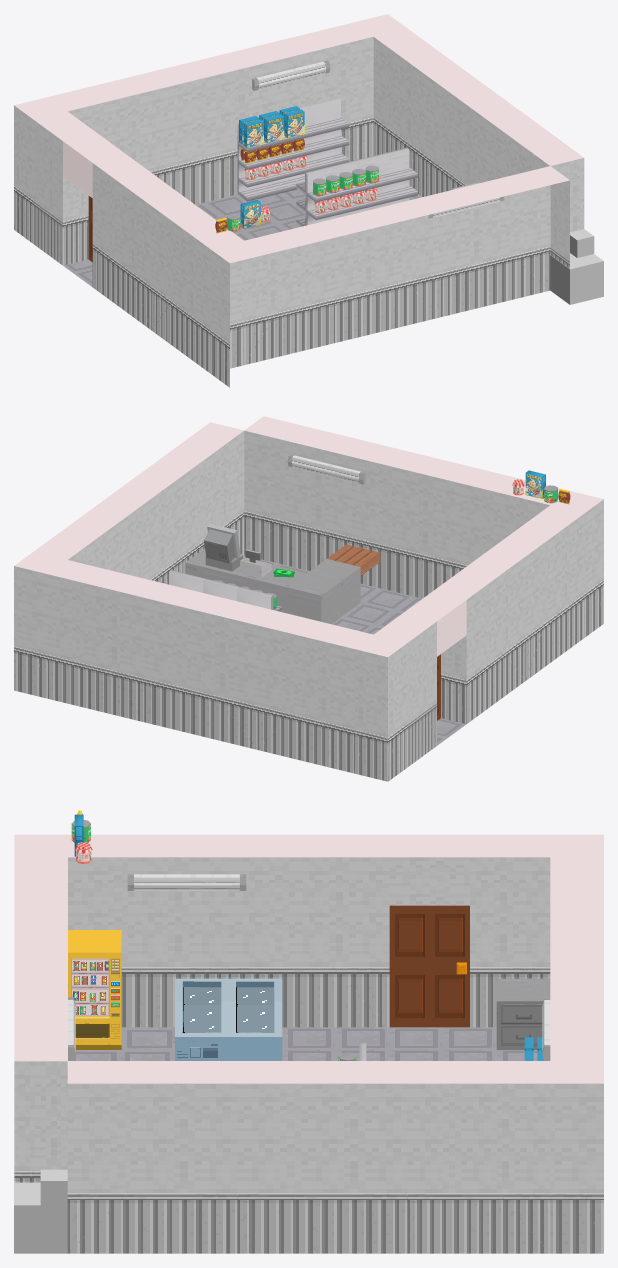
Rendered from MartRoomAsset.glb.
The picture shows the model from 3 angles, top to bottom: view 1: azimuth 30°, elevation 25°; view 2: azimuth 150°, elevation 25°; view 3: azimuth 270°, elevation 25°; orthographic projection. The views are drawn at different scales.
Parts seen in each view (by area): view 1: wall, wall.004, wall.003, shelf, shelf.001, floor, cubetest128, wall.002, cereal, fruitcan.001, light, chips (+4 smaller); view 2: wall, wall.004, wall.003, counter, floor, wall.002, shelf.001, computer, light.001, smalldoor, cashcounter, cerealog; view 3: wall, wall.003, wall.004, door, floor, vending machine, wall.002, smallfridge, glass, sidetable, cubetest128, light.002 (+1 smaller).
Boxes of the visible parts, x1=… form: wall: x1=14, y1=14, x2=584, y2=265; wall.004: x1=210, y1=166, x2=569, y2=387; wall.003: x1=92, y1=154, x2=243, y2=372; shelf: x1=237, y1=98, x2=349, y2=201; shelf.001: x1=296, y1=148, x2=417, y2=226; floor: x1=63, y1=189, x2=422, y2=286; cubetest128: x1=550, y1=253, x2=603, y2=304; wall.002: x1=63, y1=133, x2=125, y2=197; cereal: x1=239, y1=106, x2=304, y2=147; fruitcan.001: x1=313, y1=165, x2=378, y2=196; light: x1=252, y1=60, x2=330, y2=90; chips: x1=240, y1=138, x2=304, y2=163; wall: x1=14, y1=422, x2=436, y2=781; wall.004: x1=244, y1=416, x2=603, y2=637; wall.003: x1=433, y1=505, x2=584, y2=724; counter: x1=185, y1=548, x2=360, y2=623; floor: x1=243, y1=555, x2=465, y2=745; wall.002: x1=403, y1=591, x2=466, y2=656; shelf.001: x1=169, y1=570, x2=282, y2=611; computer: x1=204, y1=524, x2=242, y2=571; light.001: x1=287, y1=454, x2=365, y2=484; smalldoor: x1=327, y1=544, x2=380, y2=575; cashcounter: x1=240, y1=549, x2=271, y2=577; cerealog: x1=525, y1=470, x2=545, y2=498; wall: x1=67, y1=834, x2=603, y2=1253; wall.003: x1=68, y1=834, x2=389, y2=1027; wall.004: x1=14, y1=834, x2=67, y2=1182; door: x1=389, y1=905, x2=469, y2=1027; floor: x1=74, y1=1027, x2=537, y2=1060; vending machine: x1=68, y1=930, x2=121, y2=1049; wall.002: x1=389, y1=834, x2=469, y2=905; smallfridge: x1=175, y1=978, x2=282, y2=1060; glass: x1=182, y1=987, x2=274, y2=1032; sidetable: x1=496, y1=978, x2=550, y2=1049; cubetest128: x1=14, y1=1182, x2=67, y2=1253; light.002: x1=127, y1=874, x2=246, y2=890.
Bounding box in the file's own units: 22 × 8.8 × 22.01.
Materials: 2 (2 with a texture image).
